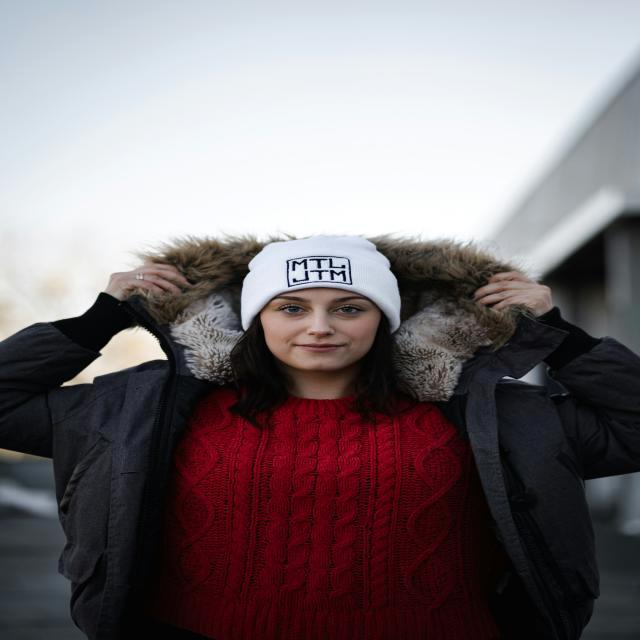no_hard_hat: (135, 236, 515, 402), (241, 235, 401, 332)
person: (2, 237, 640, 640)
